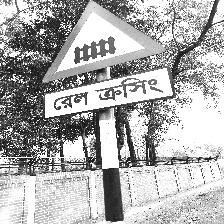Rail-crossing: (41, 0, 174, 121)
